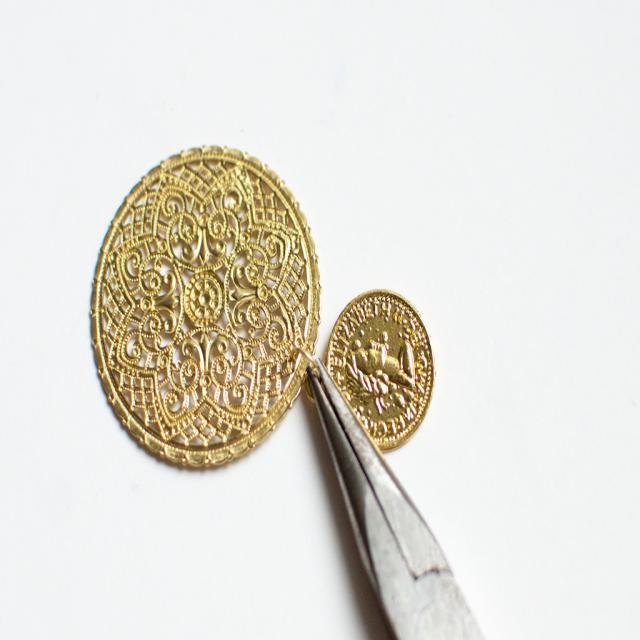Coin: (87, 137, 321, 463), (324, 290, 438, 455)
